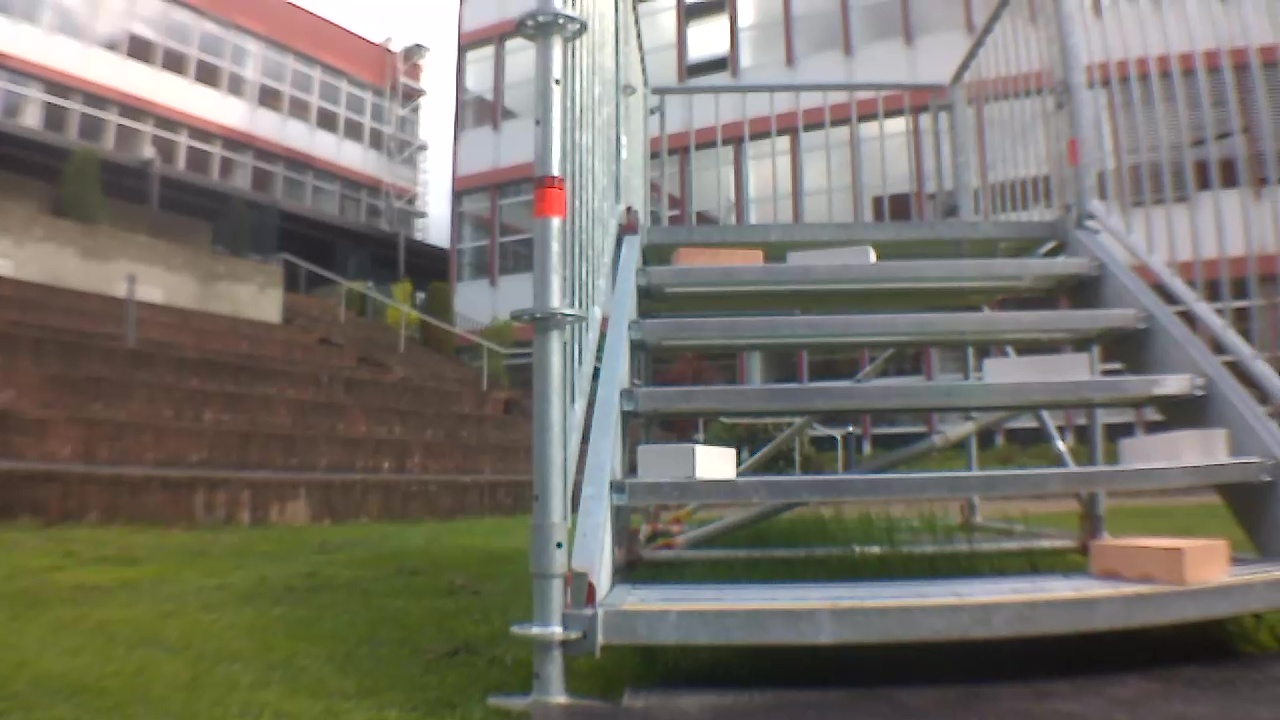brick: (1090, 538, 1228, 584), (1120, 430, 1226, 463), (638, 445, 736, 478), (985, 353, 1090, 382), (669, 247, 762, 265), (788, 245, 876, 263)
edge: (602, 571, 1280, 641), (612, 458, 1280, 500), (621, 372, 1208, 407), (631, 309, 1153, 335), (638, 259, 1101, 279), (644, 220, 1067, 238)
stairs: (509, 3, 1273, 700)
steps: (587, 215, 1280, 655)
